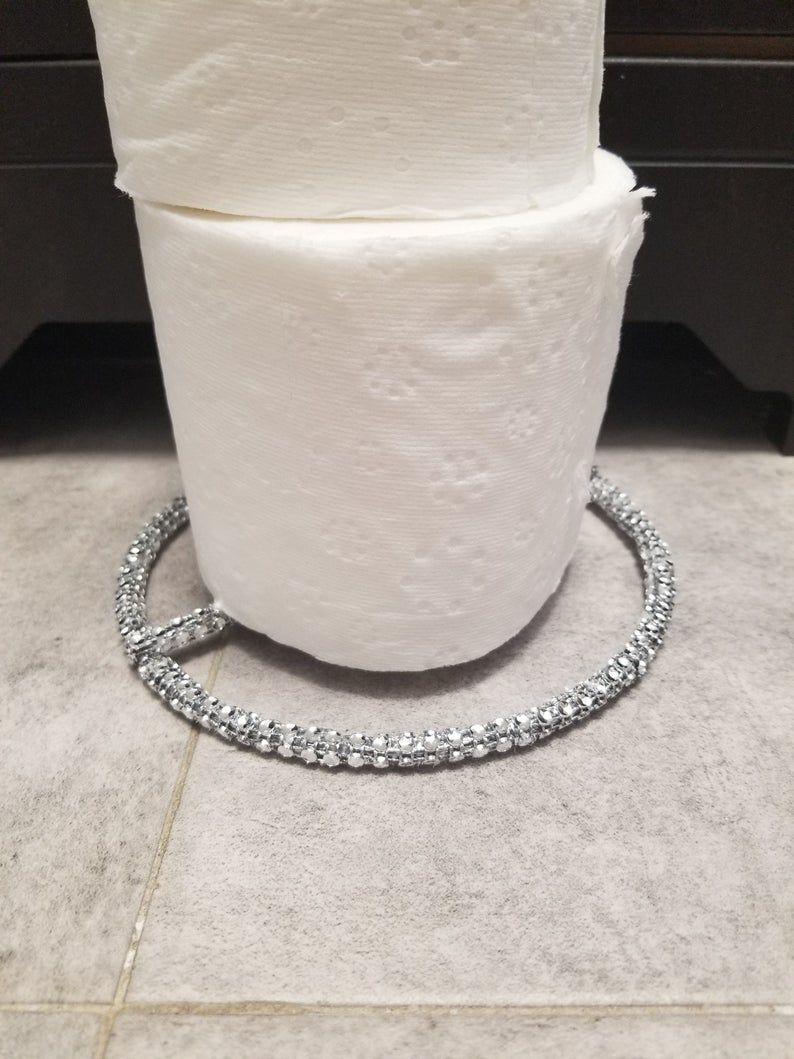Tissue: (112, 147, 647, 679)
